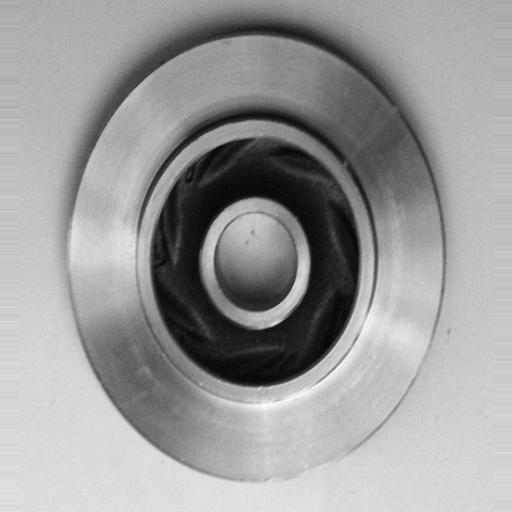scratch: (247, 446, 356, 496)
unpolished_casting: (64, 30, 444, 485)
